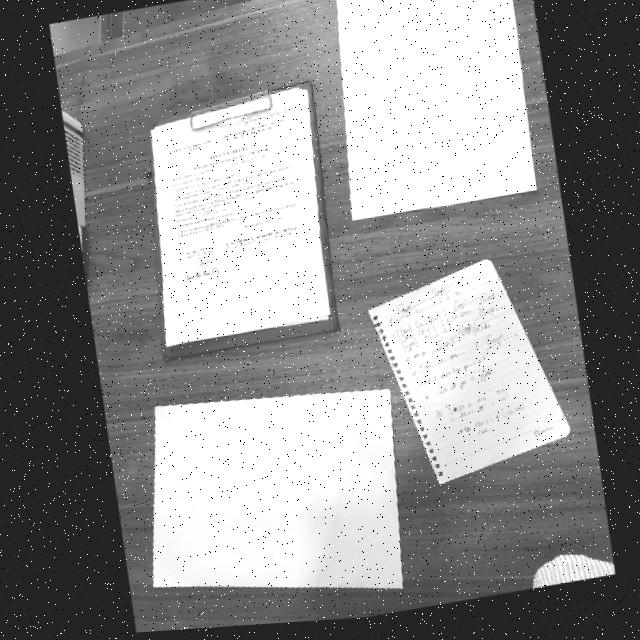document: (150, 85, 330, 346), (368, 259, 569, 483)
